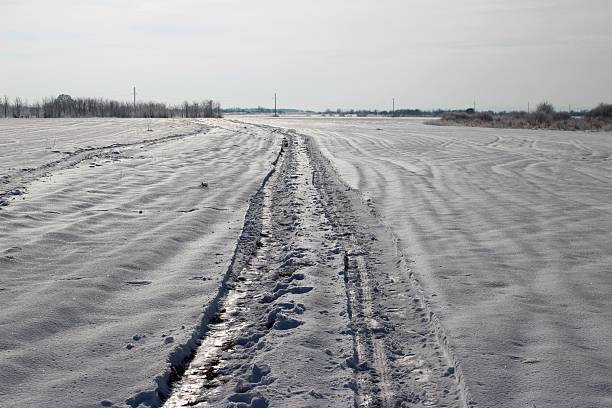vehicle_track: (164, 130, 469, 407)
